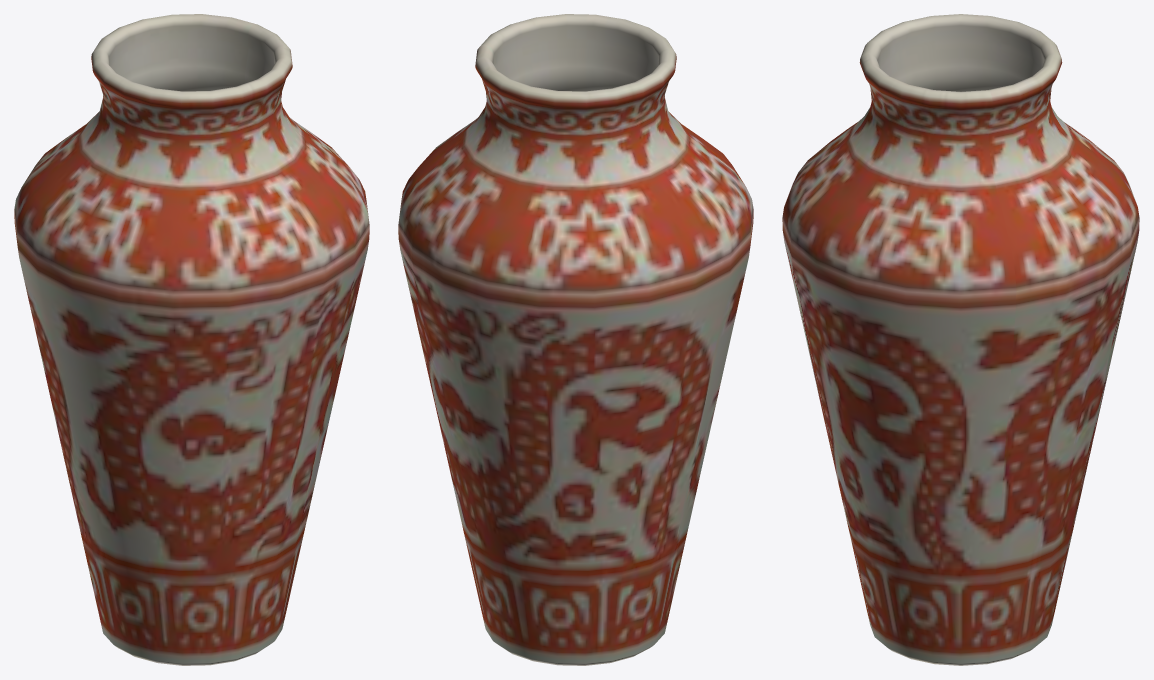
3 views of the same model, side by side, from view 1: azimuth 30°, elevation 25°; view 2: azimuth 150°, elevation 25°; view 3: azimuth 270°, elevation 25° (orthographic).
Bounding box in the file's own units: 7.71 × 13.73 × 7.71.
1 material, 1 textured.
